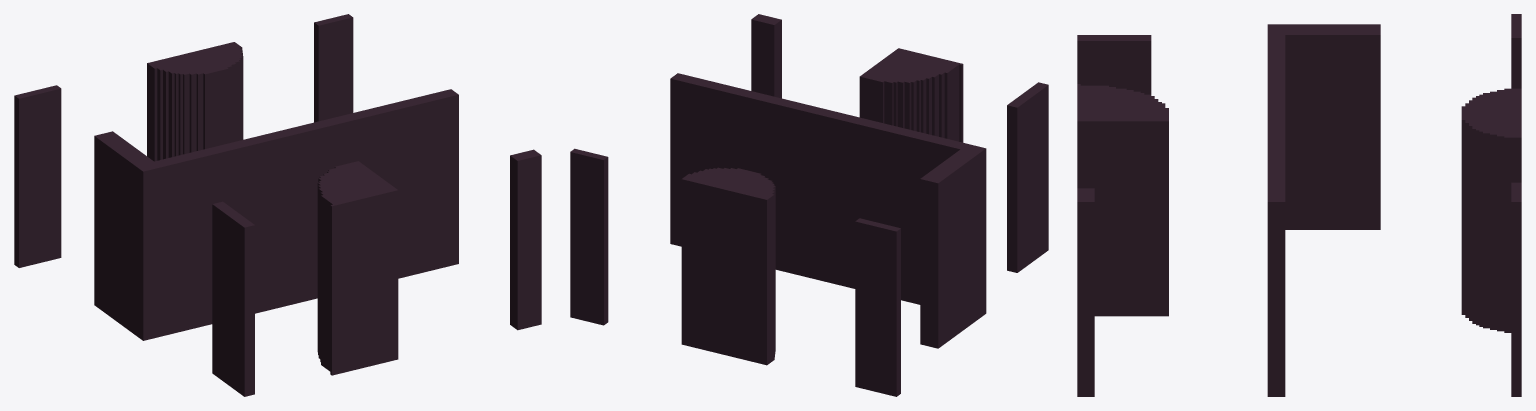
The model's file is Chanks-8.obj.
3 renders of one model, left to right at view 1: azimuth 30°, elevation 25°; view 2: azimuth 150°, elevation 25°; view 3: azimuth 270°, elevation 25°, orthographic. The views are drawn at different scales.
Size of the model in its own units: 12.6 by 6.1 by 12.6.
1 material, 1 textured.
